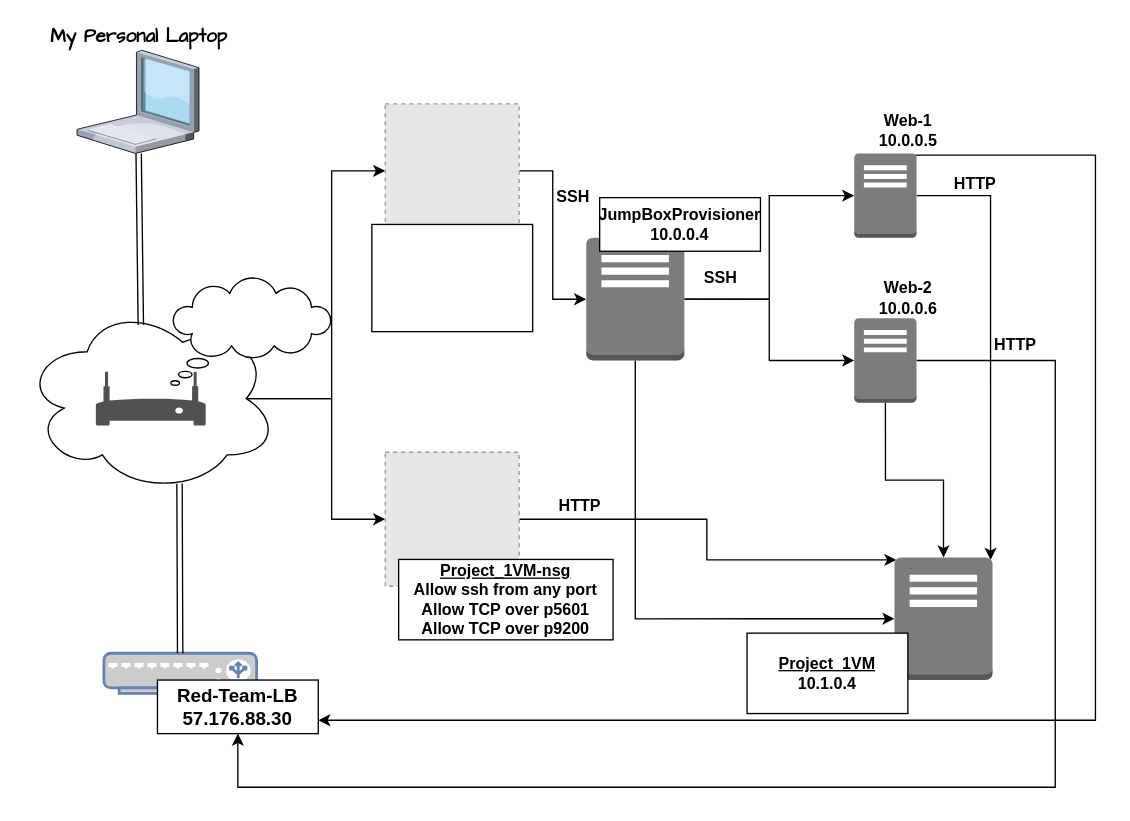
Image size: 1130x821. Some labels were removed from this diagram. Grey dashed boxes stand in for pictures. Here are the shapes that lost their labels. From the top down, the centre of each, then its label:
At point (452, 277): "RedTeamNSG Pentest LBR SSH-from-Jumpbox SSH_Jump_Box JumpBoxPing".
At point (251, 331): "INTERNET".
